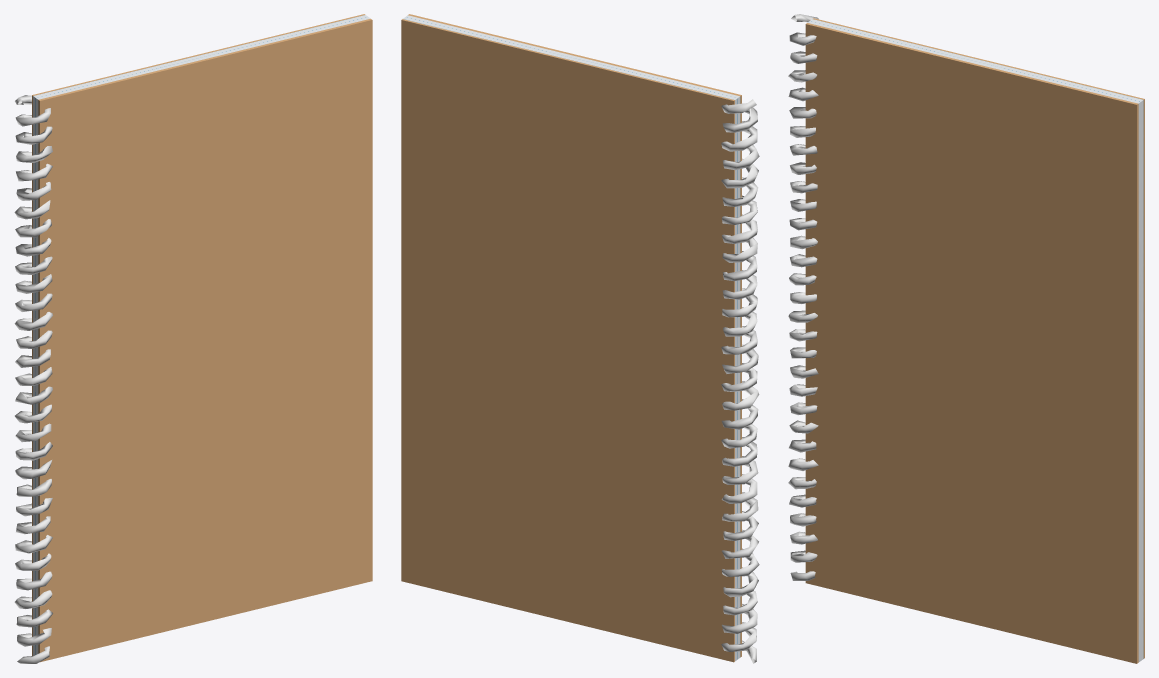
The model's file is notebook.fbx.
3 renders of one model, left to right at view 1: azimuth 30°, elevation 25°; view 2: azimuth 150°, elevation 25°; view 3: azimuth 330°, elevation 25°, orthographic.
Visible parts, largest first — view 1: notebook.001; view 2: notebook.001; view 3: notebook.001.
Boxes of the visible parts, x1,y1,x2,y2 form: notebook.001: [14, 14, 372, 663]; notebook.001: [401, 14, 759, 663]; notebook.001: [788, 14, 1144, 663].
Size of the model in its own units: 127 by 196 by 12.17.
Materials: 3 (1 with a texture image).
